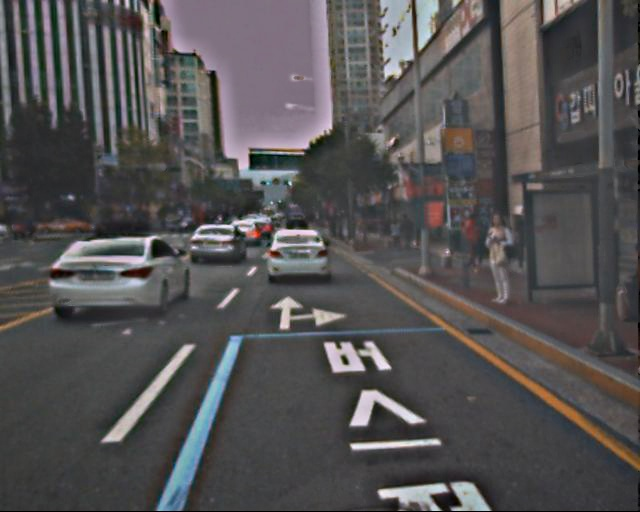person: (479, 211, 520, 310), (460, 213, 485, 273), (399, 213, 415, 251), (387, 220, 399, 250)
